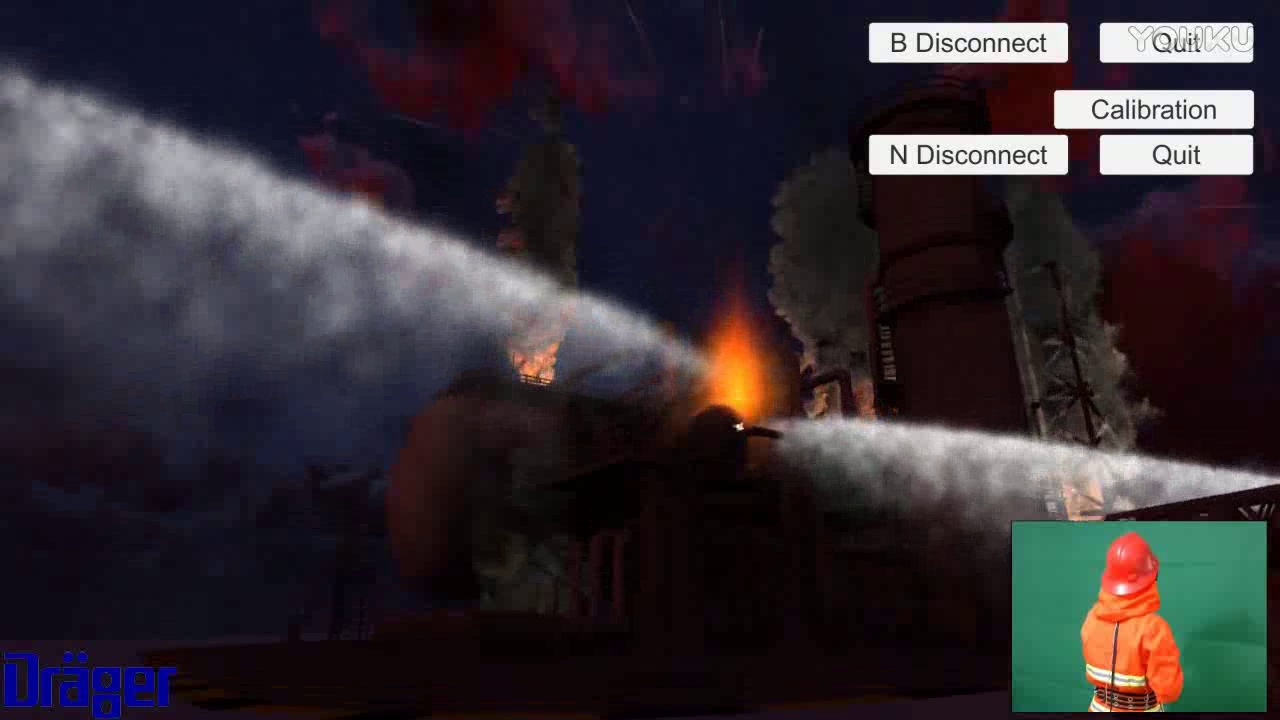fire: (700, 274, 773, 435)
